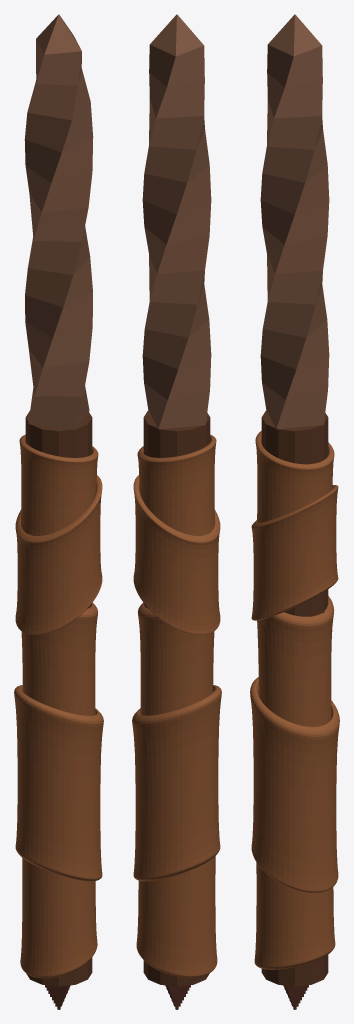
Rendered from Wand 354.glb.
3 views of the same model, side by side, from view 1: azimuth 30°, elevation 25°; view 2: azimuth 150°, elevation 25°; view 3: azimuth 330°, elevation 25° (orthographic).
Parts seen in each view (by area): view 1: GeneratedWand; view 2: GeneratedWand; view 3: GeneratedWand.
Part boxes in pixels (bbox=[...]): GeneratedWand: bbox=[14, 14, 103, 1009]; GeneratedWand: bbox=[132, 14, 221, 1009]; GeneratedWand: bbox=[250, 14, 339, 1009].
Size of the model in its own units: 0.0408 by 0.4989 by 0.0408.
